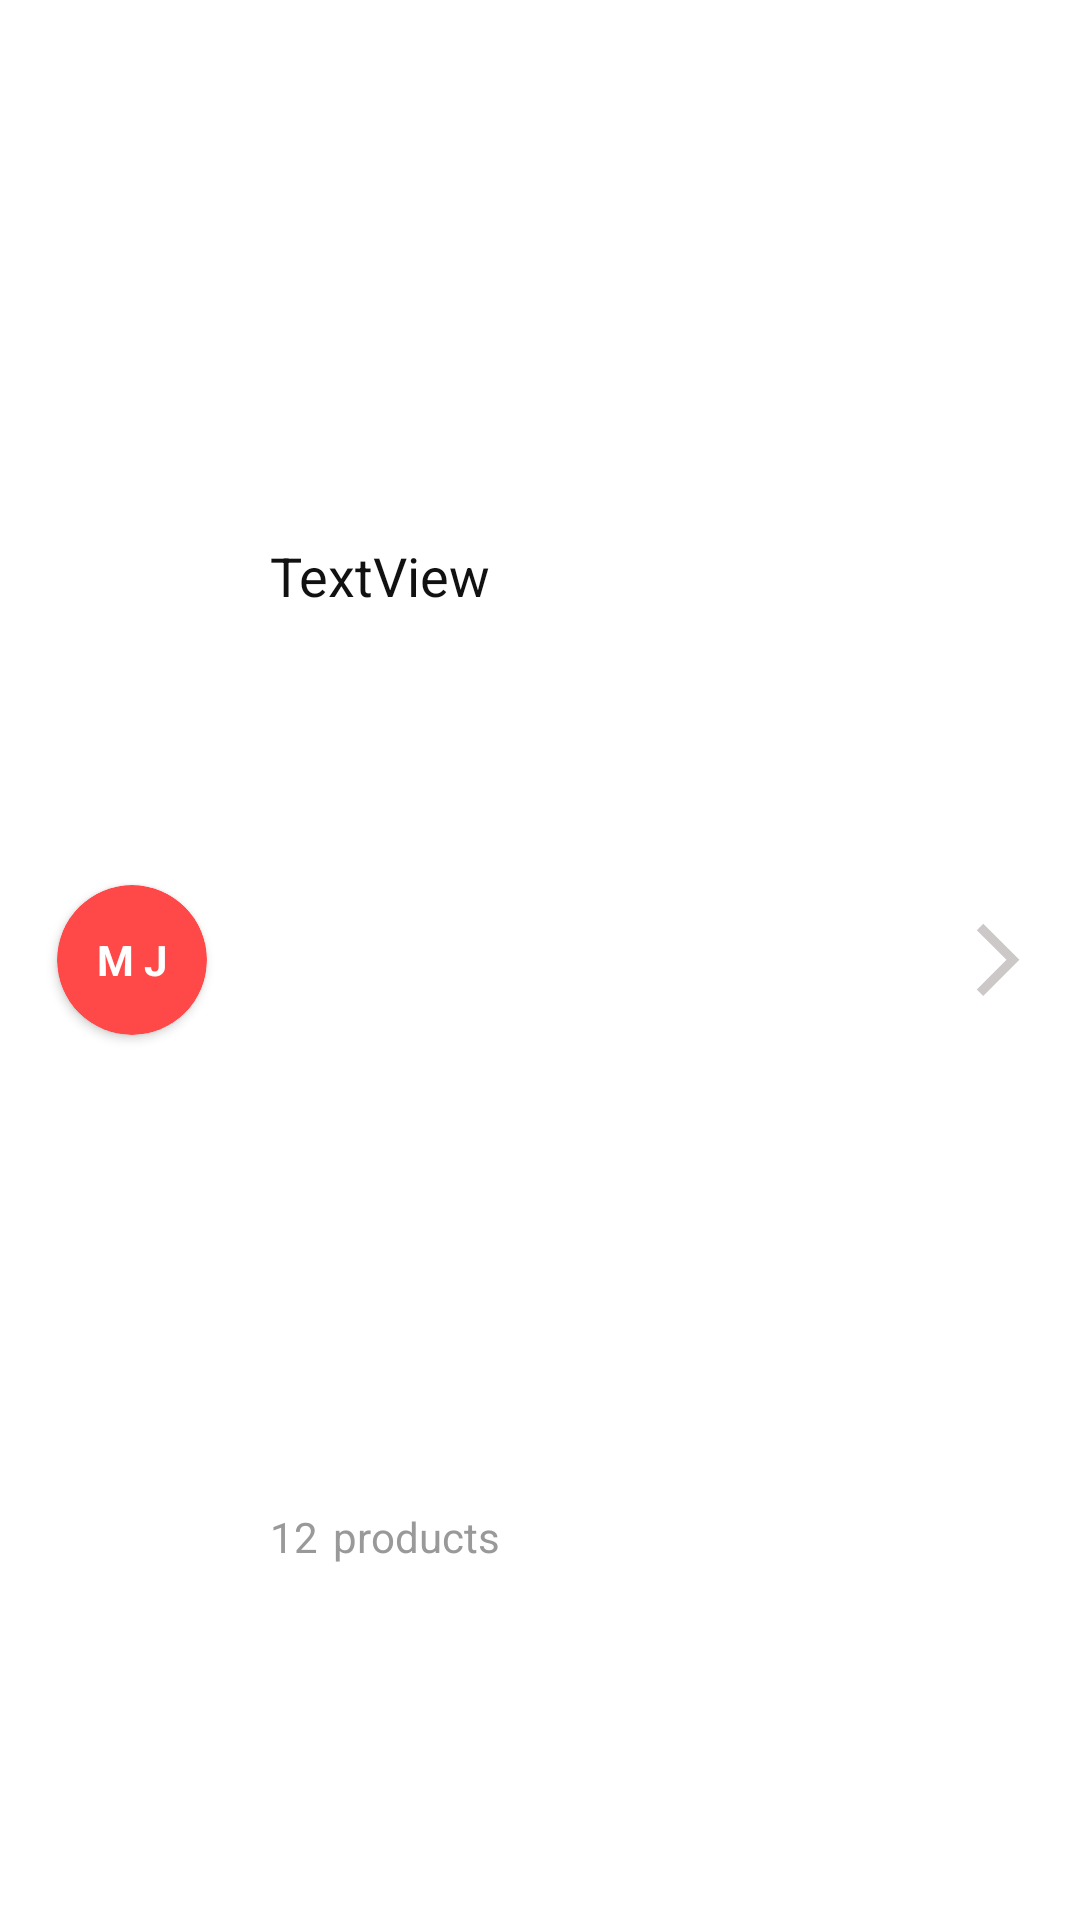

Screen size 1080×1920. Icon name, then its box in pixels as [x1,y1,x2,y2]:
keyboard arrow right: [977,924,1019,996]
